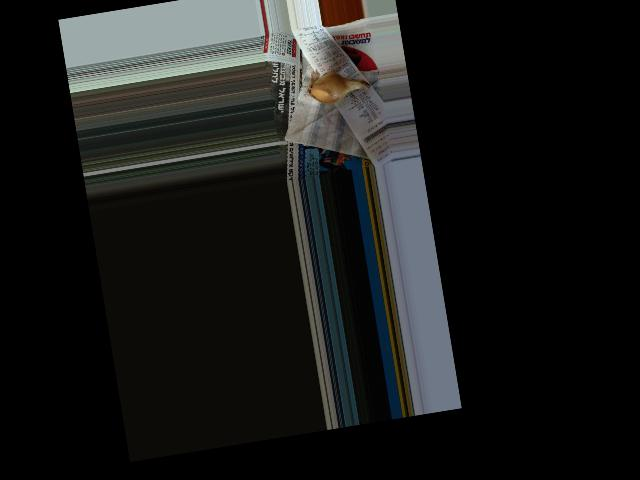onion: (311, 69, 353, 106)
